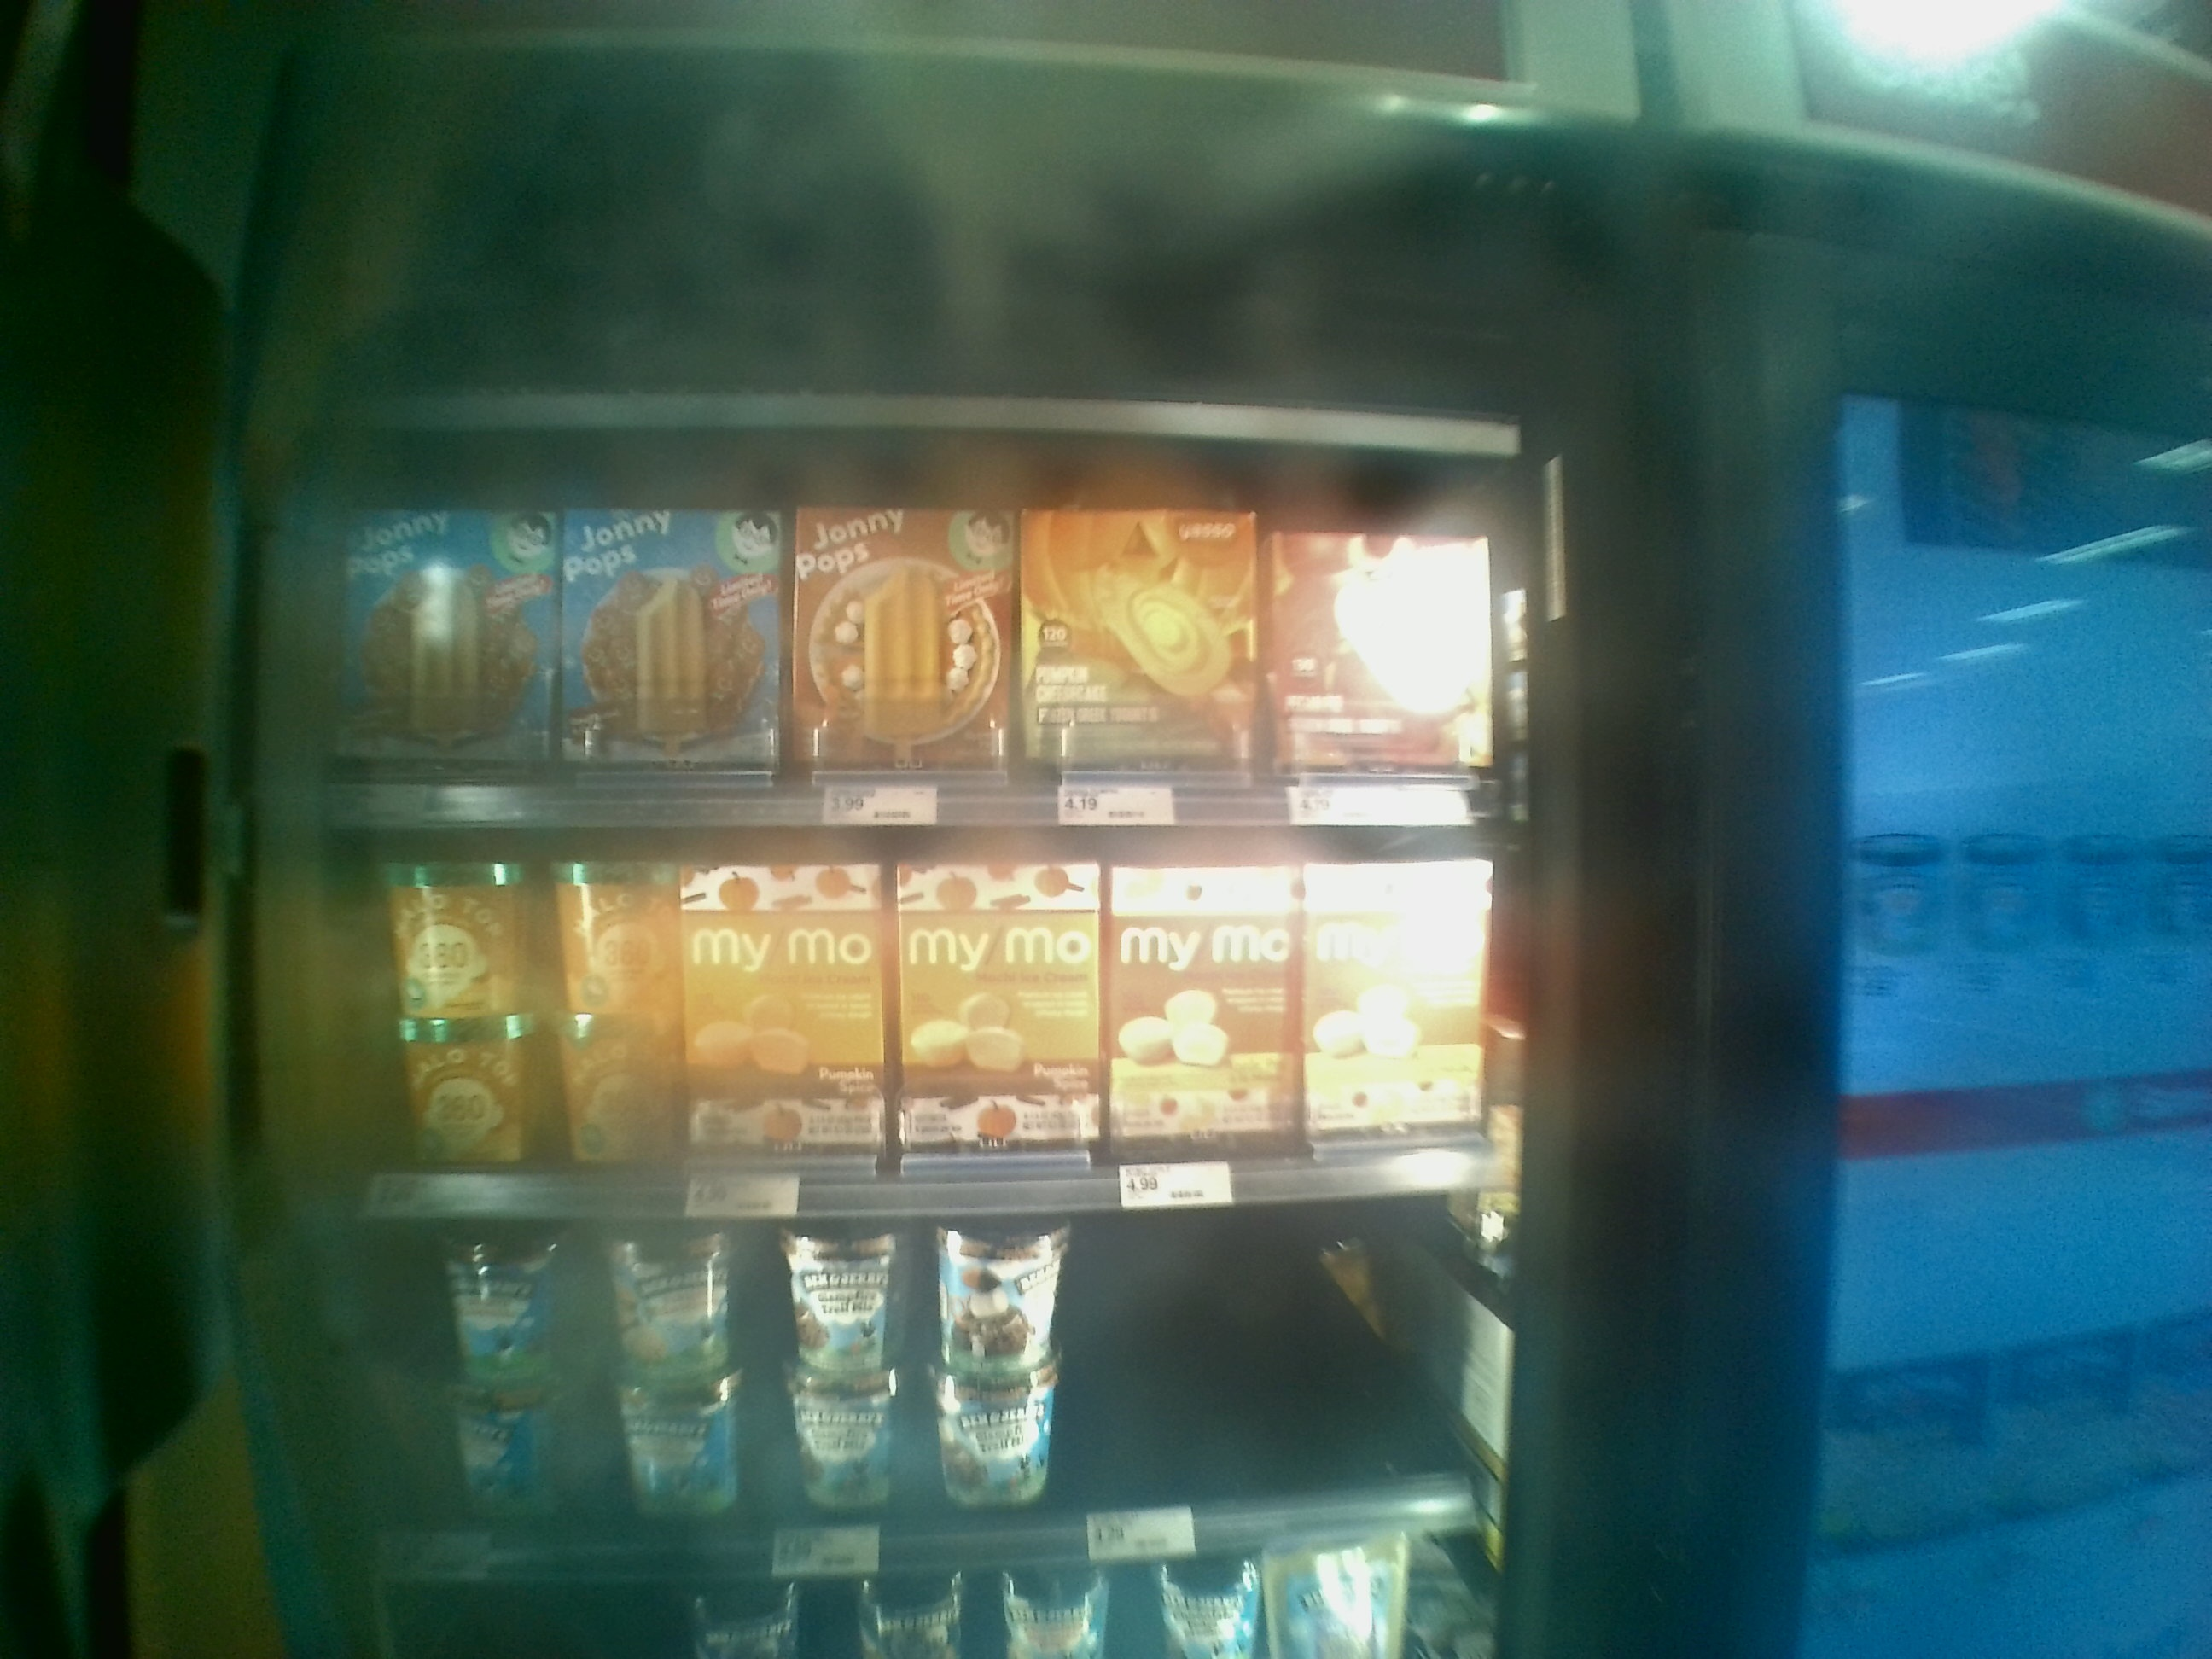shelf: (308, 418, 1519, 829), (296, 826, 1514, 1204), (294, 1220, 1514, 1544)
